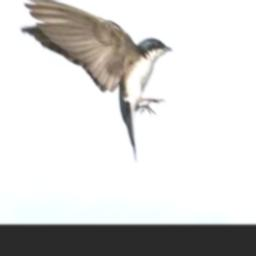Swallow: (20, 0, 171, 163)
